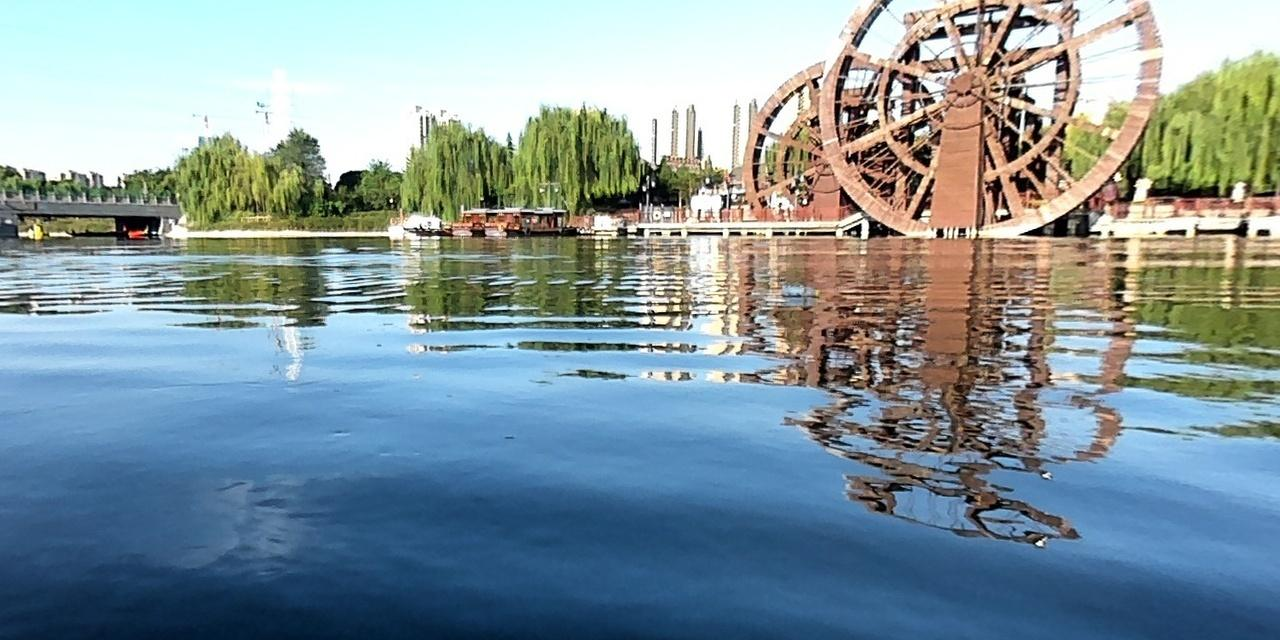bottle: (779, 282, 823, 298)
